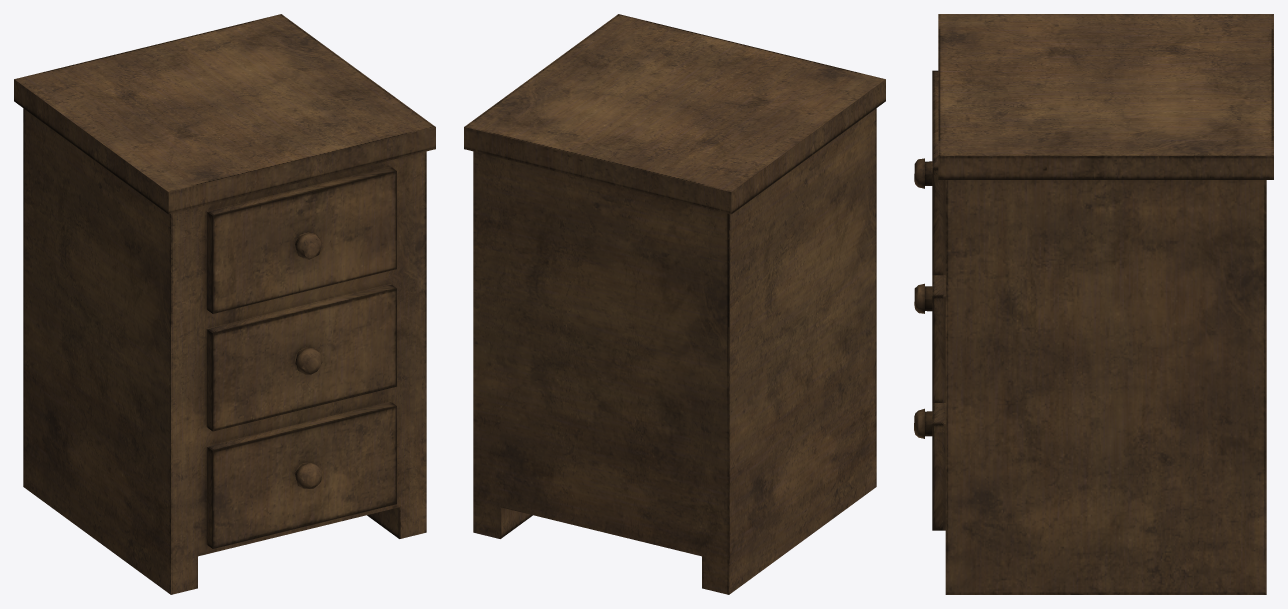
The model's file is nightTable.fbx.
3 renders of one model, left to right at view 1: azimuth 30°, elevation 25°; view 2: azimuth 150°, elevation 25°; view 3: azimuth 270°, elevation 25°, orthographic. The views are drawn at different scales.
Visible parts, largest first — view 1: Object_2; view 2: Object_2; view 3: Object_2.
Boxes of the visible parts, box(x1,y1,x2,y2) form: Object_2: box(14, 14, 435, 594); Object_2: box(464, 14, 885, 594); Object_2: box(914, 14, 1273, 594).
Size of the model in its own units: 51.31 by 74.6 by 55.01.
